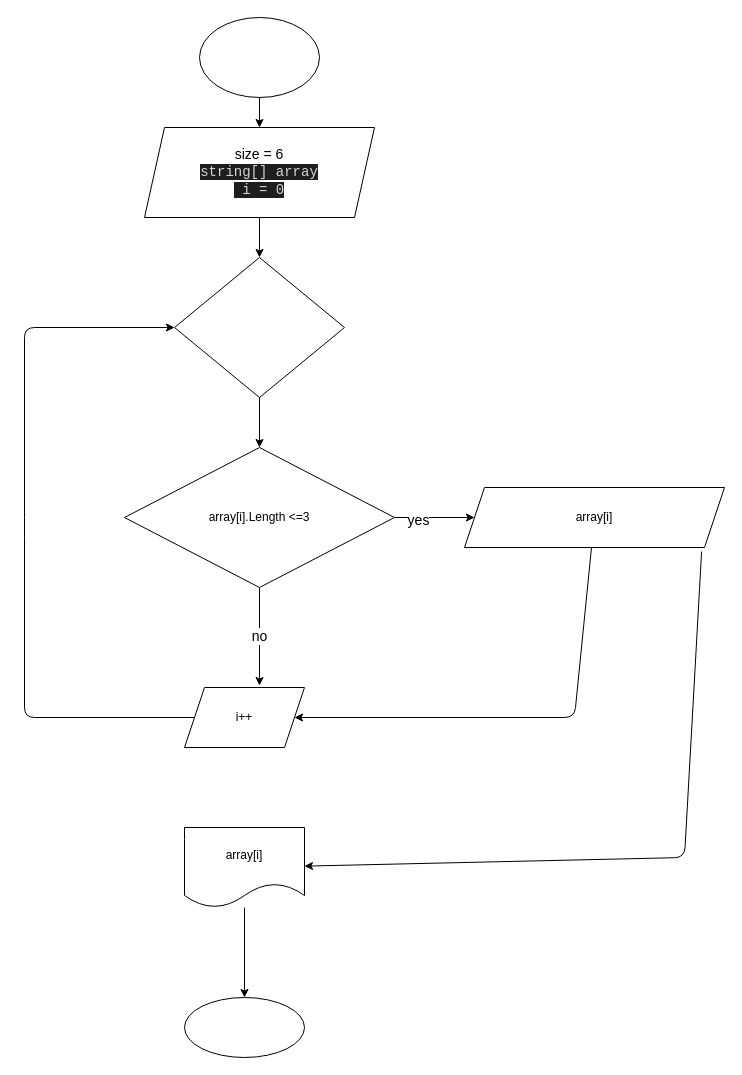
Image size: 742x1075. Some labels were removed from this diagram. Here are the shapes that lost their labels. From the top down, the centre of each, then its label:
the point at 259,57: start
the point at 259,327: i < size
the point at 244,1027: end
